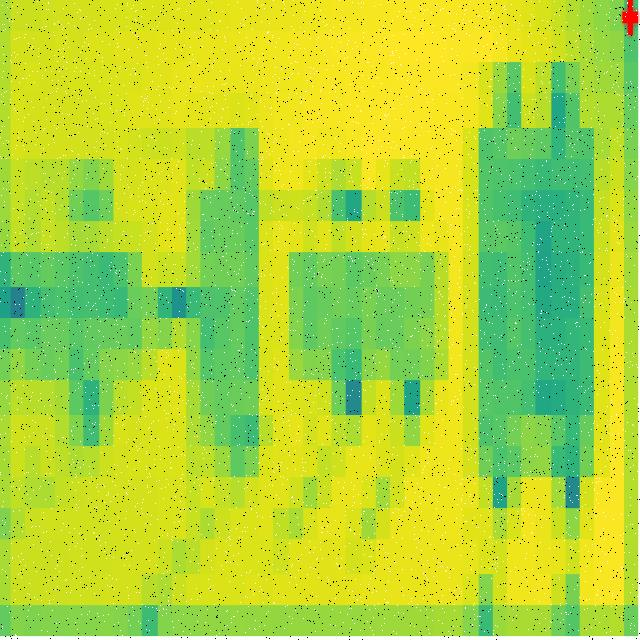Concrete: (288, 252, 451, 384)
Glass: (188, 191, 269, 464)
Metal: (478, 130, 596, 478)
Wood: (26, 252, 143, 380)
